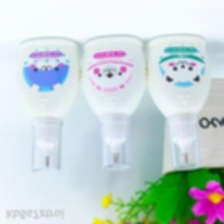correction_fluid: (142, 30, 214, 174), (77, 33, 150, 172), (13, 34, 83, 175)
